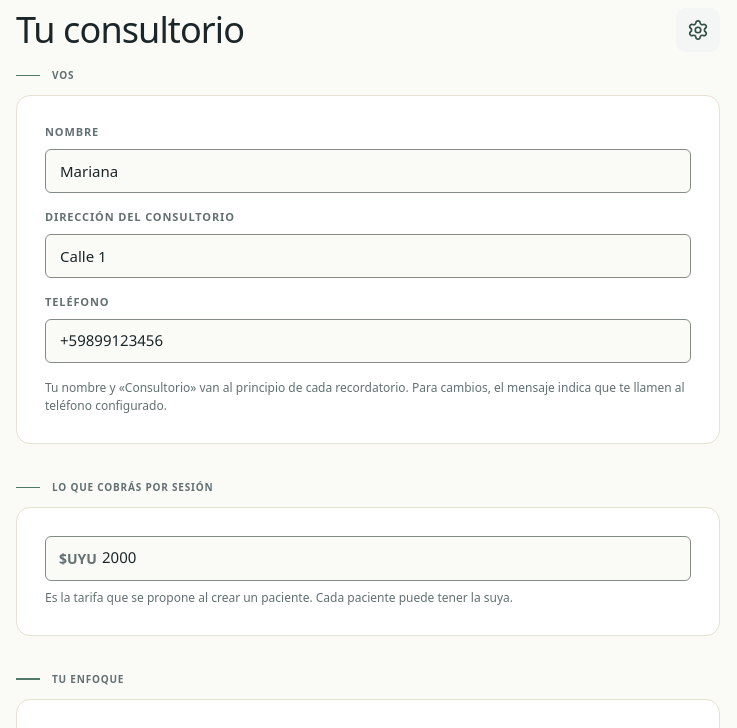
Test: una respuesta en vuelo no confirma el valor escrito después de enviar
Replace the text in the field labelled "Nombre" with "Primer nombre" at [368, 171], box [46,150,690,192]
Wait 1500 ms
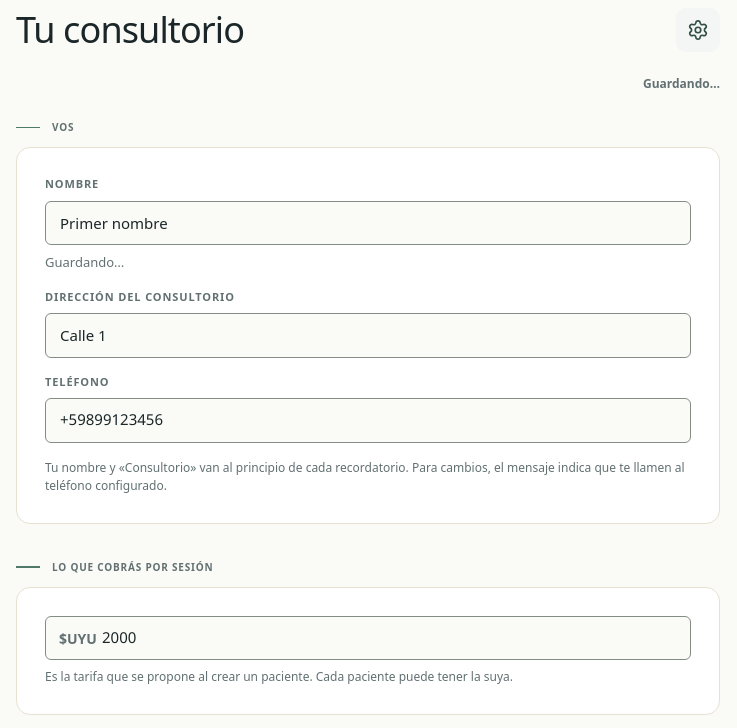
Replace the text in the field labelled "Nombre" with "Segundo nombre" at [368, 223], box [46,202,690,244]
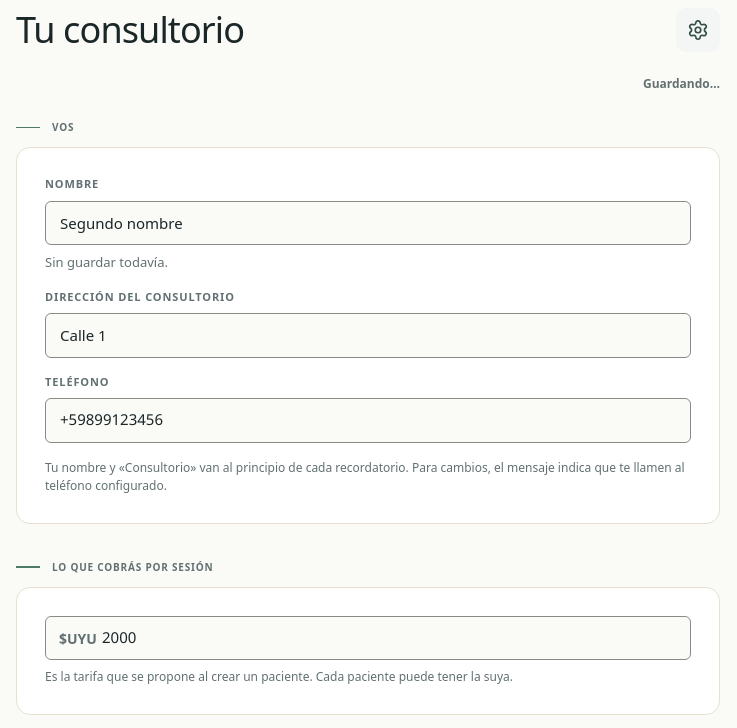
Check: the message reads "Sin guardar todavía.", box [45,253,168,271]
